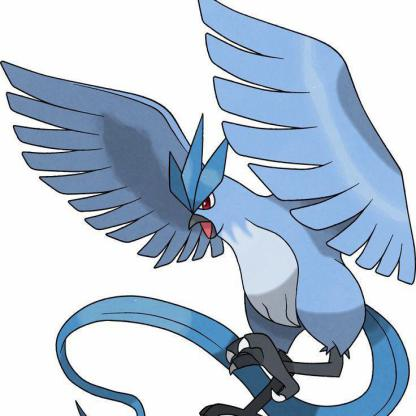Articuno: (16, 1, 416, 416)
